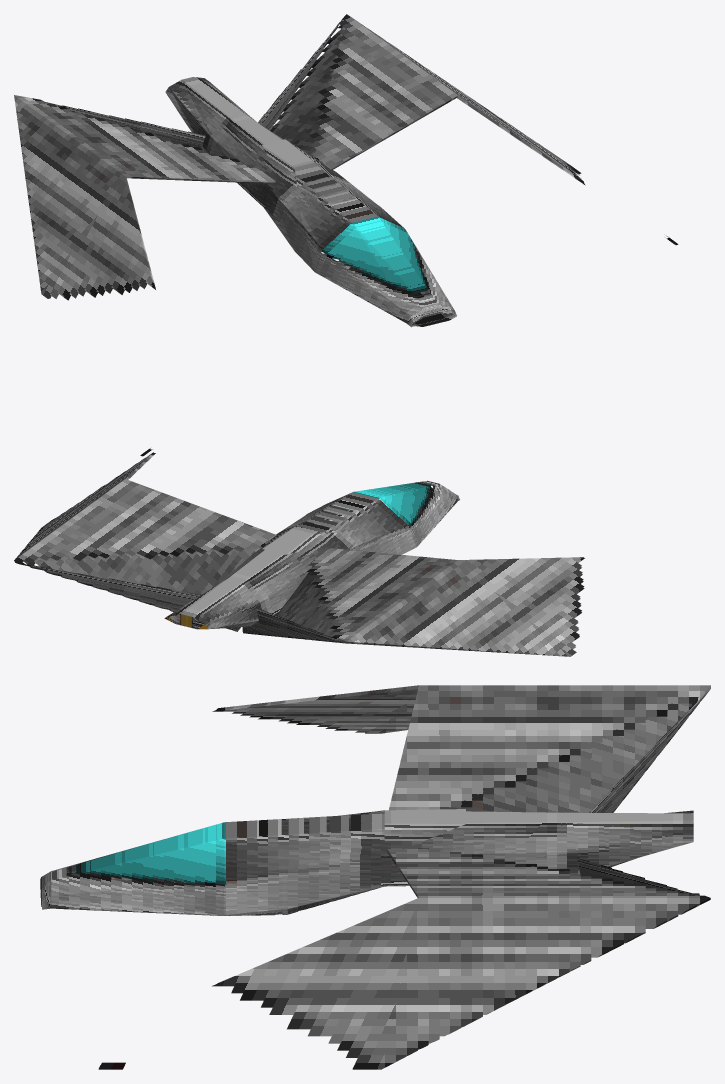
Rendered from gull1.obj.
The picture shows the model from 3 angles, top to bottom: view 1: azimuth 30°, elevation 25°; view 2: azimuth 150°, elevation 25°; view 3: azimuth 270°, elevation 25°; orthographic projection. The views are drawn at different scales.
Size of the model in its own units: 5.79 by 0.8755 by 5.04.
Materials: 4 (4 with a texture image).
